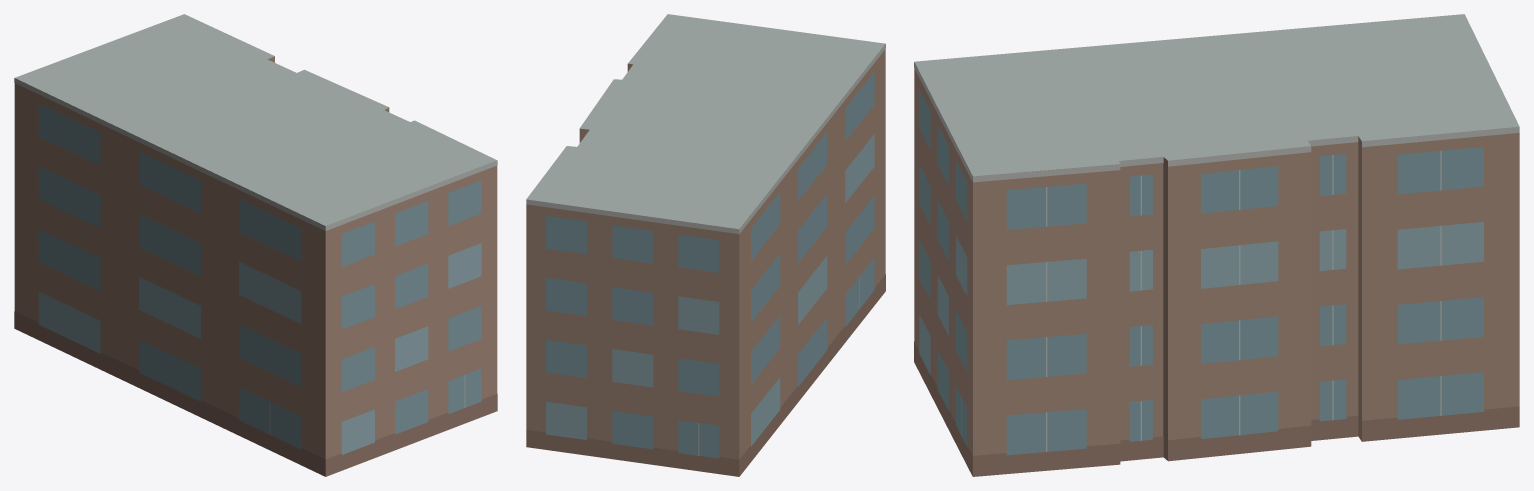
File: survey-upis-32648459.glb
3 views of the same model, side by side, from view 1: azimuth 30°, elevation 25°; view 2: azimuth 150°, elevation 25°; view 3: azimuth 270°, elevation 25° (orthographic). The views are drawn at different scales.
Visible parts, largest first — view 1: survey-upis-32648459.tmp; view 2: survey-upis-32648459.tmp; view 3: survey-upis-32648459.tmp.
Boxes of the visible parts, box(x1,y1,x2,y2) form: survey-upis-32648459.tmp: box(14, 14, 497, 476); survey-upis-32648459.tmp: box(526, 14, 885, 476); survey-upis-32648459.tmp: box(914, 14, 1519, 476).
Bounding box in the file's own units: 14.15 × 12.2 × 22.29.
